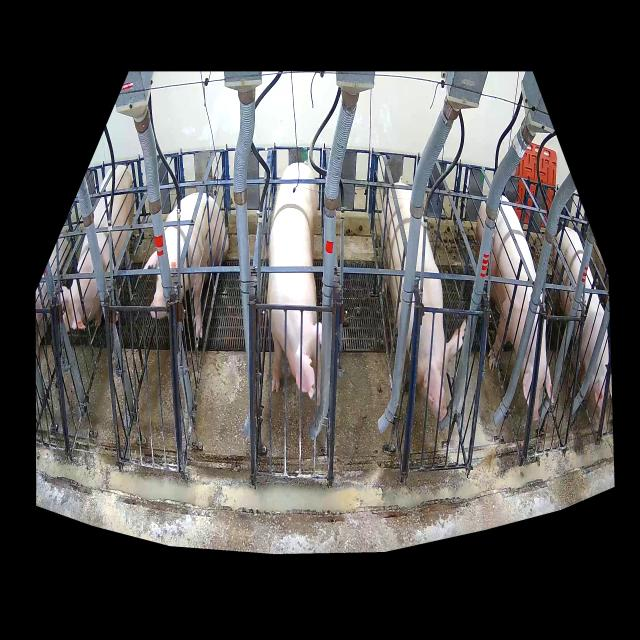pig: (381, 183, 466, 422), (476, 194, 553, 421), (266, 163, 322, 406), (143, 193, 229, 338), (62, 165, 134, 331), (552, 227, 608, 433)
